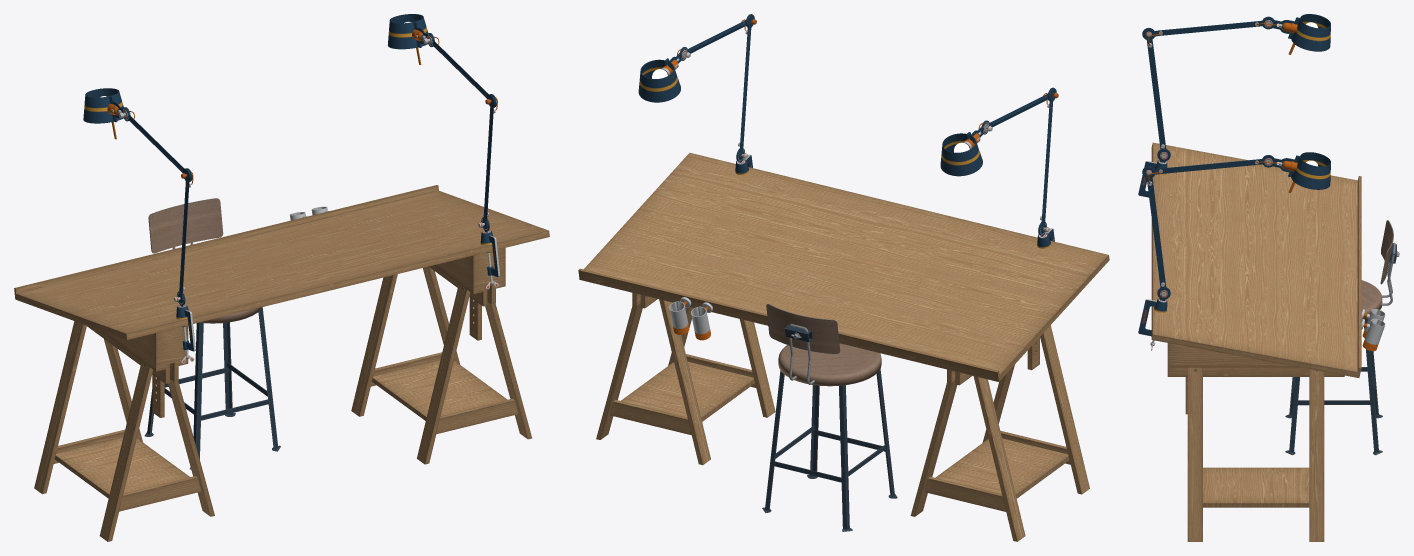
Rendered from drafting_table.fbx.
The picture shows the model from 3 angles, left to right: view 1: azimuth 30°, elevation 25°; view 2: azimuth 150°, elevation 25°; view 3: azimuth 270°, elevation 25°; orthographic projection. The views are drawn at different scales.
Visible parts, largest first — view 1: Empty; view 2: Empty; view 3: Empty.
Boxes of the visible parts, bbox=[...] form: Empty: bbox=[14, 14, 549, 541]; Empty: bbox=[578, 14, 1109, 541]; Empty: bbox=[1138, 14, 1399, 541].
Size of the model in its own units: 945 by 828 by 541.
4 materials, 4 textured.
